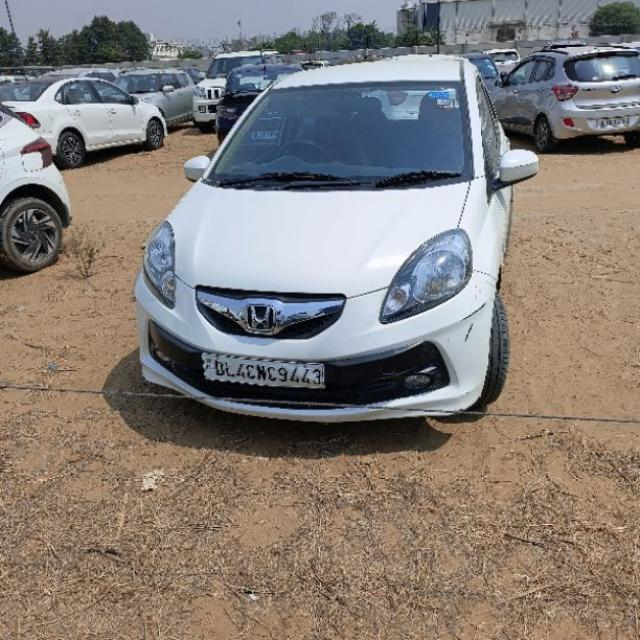license_plate: (200, 351, 326, 389), (584, 114, 637, 132)
